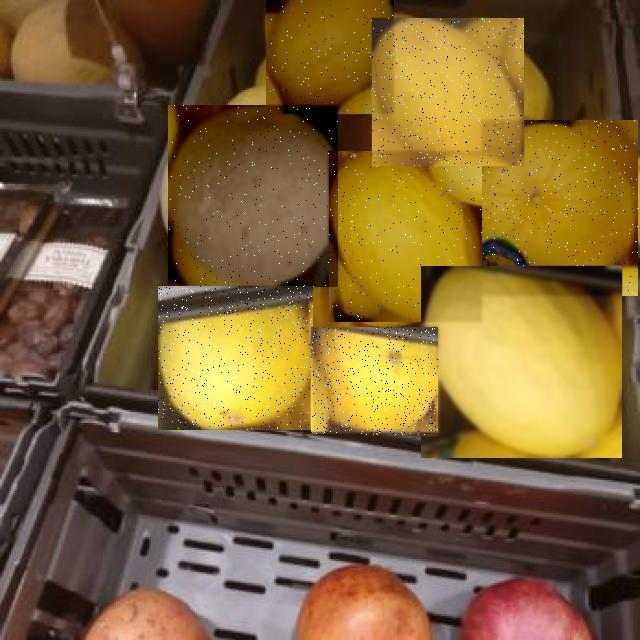Cantaloupe: (168, 105, 338, 287)
Honey Dew: (421, 267, 622, 459), (482, 120, 638, 296), (329, 151, 482, 322), (372, 18, 524, 166), (158, 287, 313, 431), (266, 0, 394, 114), (311, 328, 438, 436)
